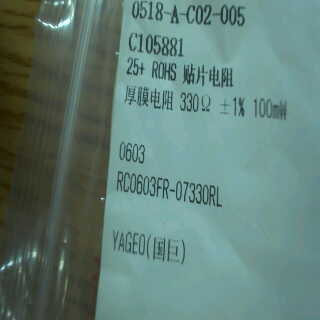330R: (177, 88, 215, 118)
